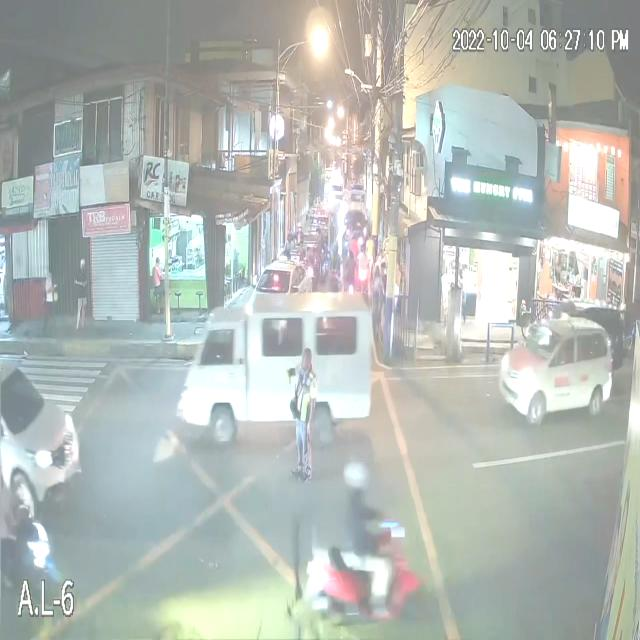Full-Faced: (338, 447, 369, 491)
